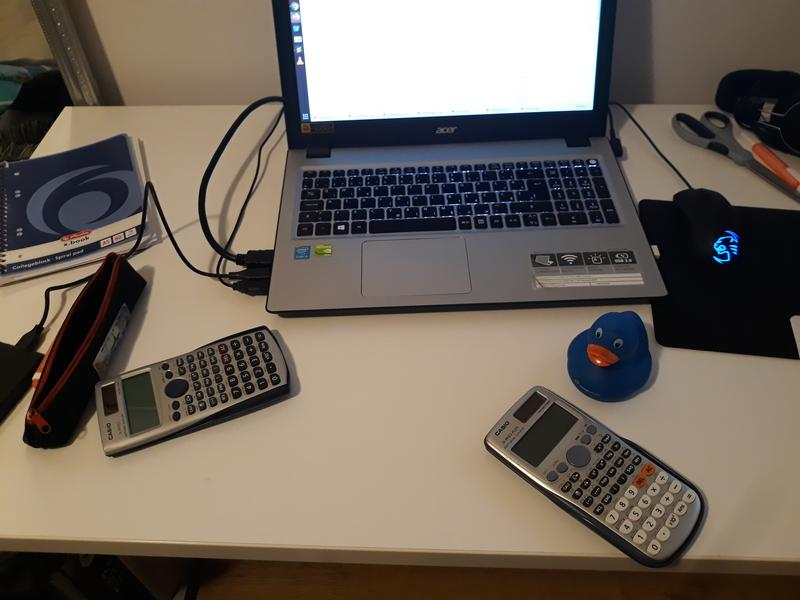CASIO_fx_991ES: (84, 320, 317, 477)
CASIO_fx_991ES_PLUS: (474, 374, 719, 569)
plava_patkica: (562, 307, 656, 403)
